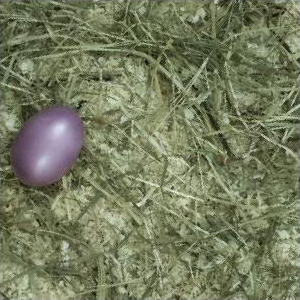egg: (10, 105, 87, 188)
